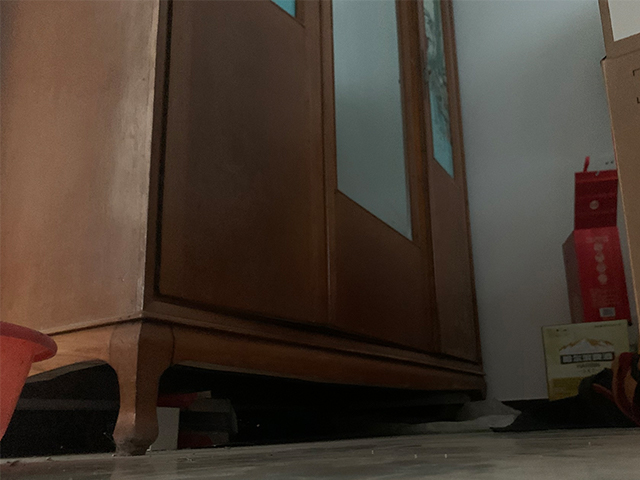cabinet: (55, 5, 489, 459)
